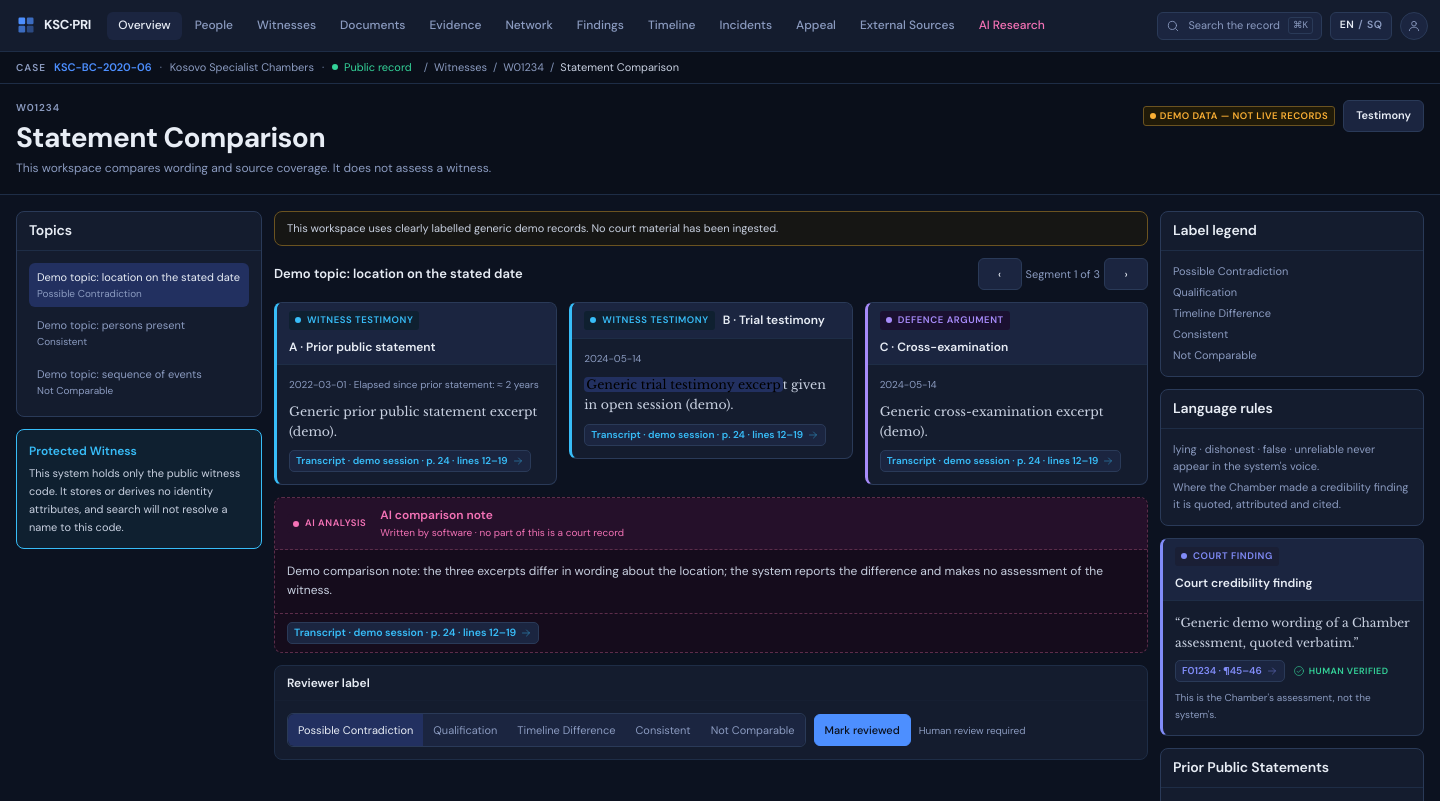
Test: Phase 5B visual-parity remediation › statement comparison keeps three columns, a label picker and the Chamber attribution
Check: the heading "A · Prior public statement" is shown, box [289,338,436,356]
Check: the heading "B · Trial testimony" is shown, box [723,311,825,330]
Click the button "Mark reviewed" at coordinates (862, 730), box [814,714,911,746]
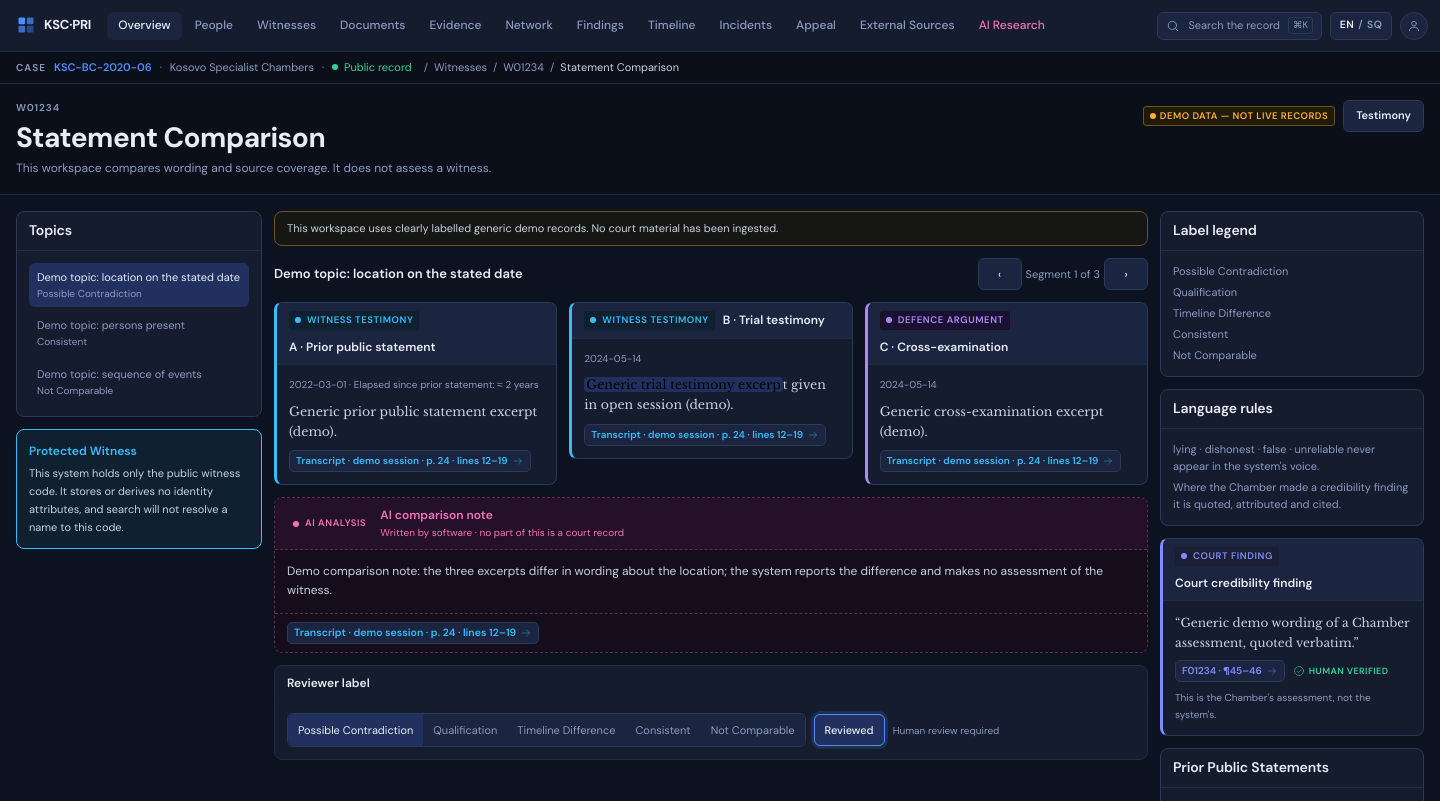
Check: the button "Reviewed" is pressed, box [814,714,885,746]
Click the button named "Next" at coordinates (1126, 274), box [1104,258,1148,290]
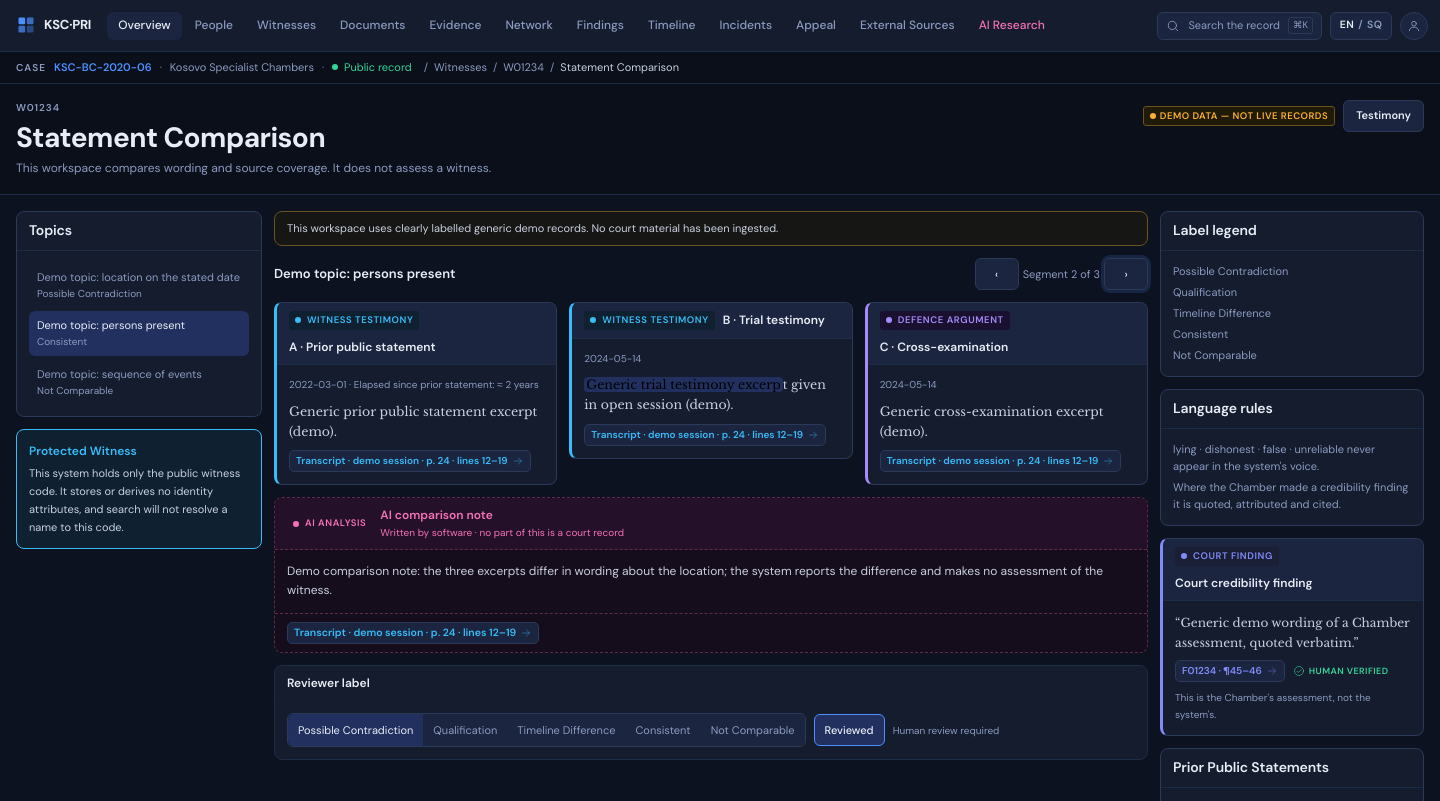
Click the button named "Next" at coordinates (1126, 274), box [1104,258,1148,290]
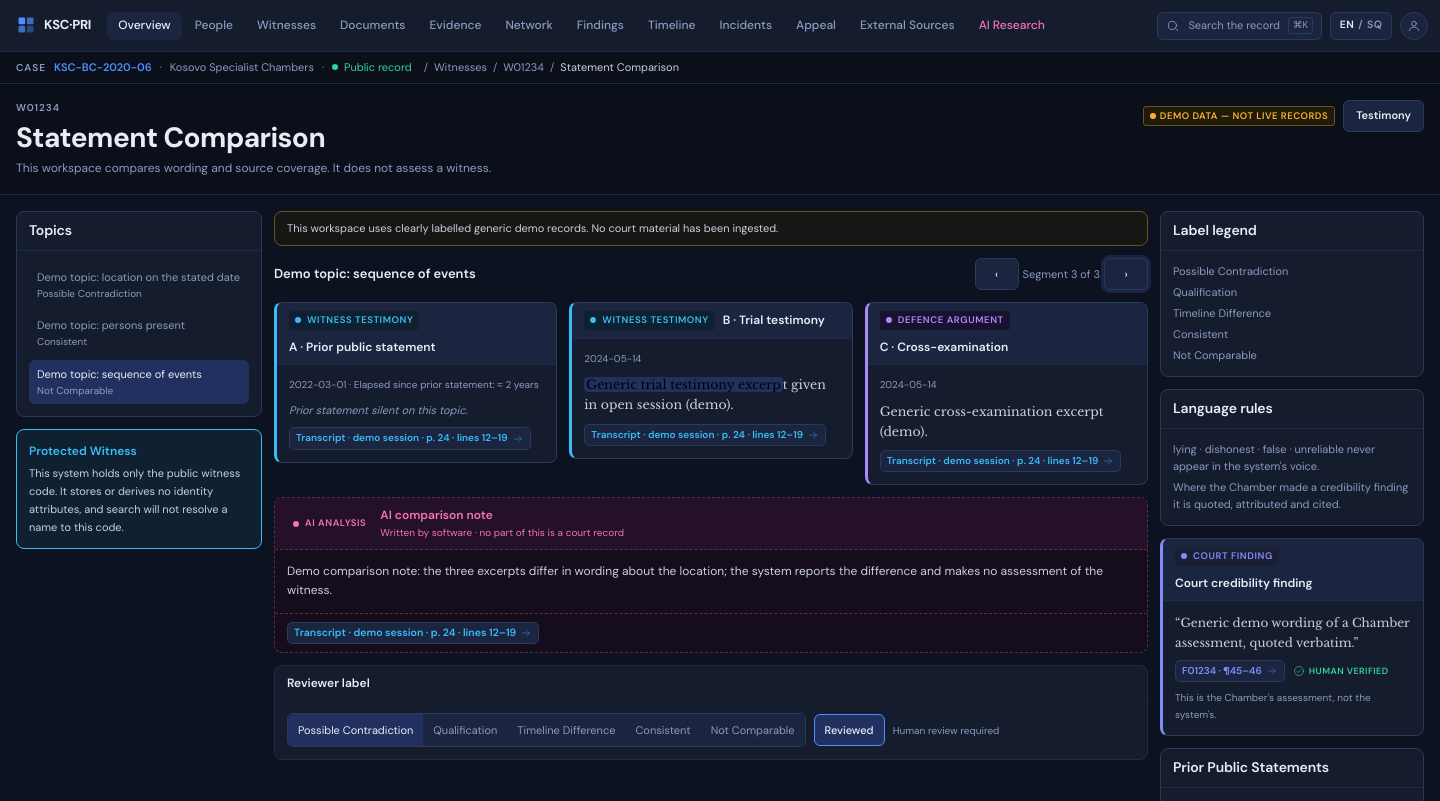
Check: the text "Prior statement silent on this topic." is shown, box [289,403,468,417]
